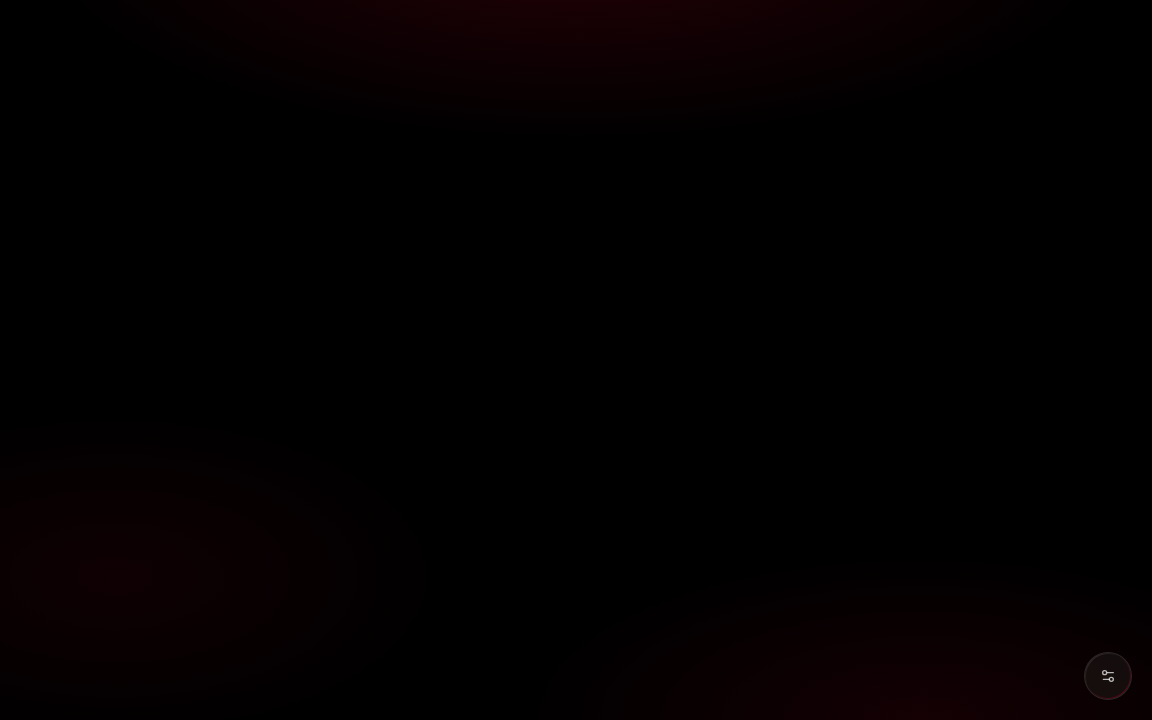
Test: AccessibilityPanel › se abre como dialogo modal y se cierra con Escape
Click the button named "abrir panel de accesibilidad": point(1108, 676) [1084, 652, 1132, 700]
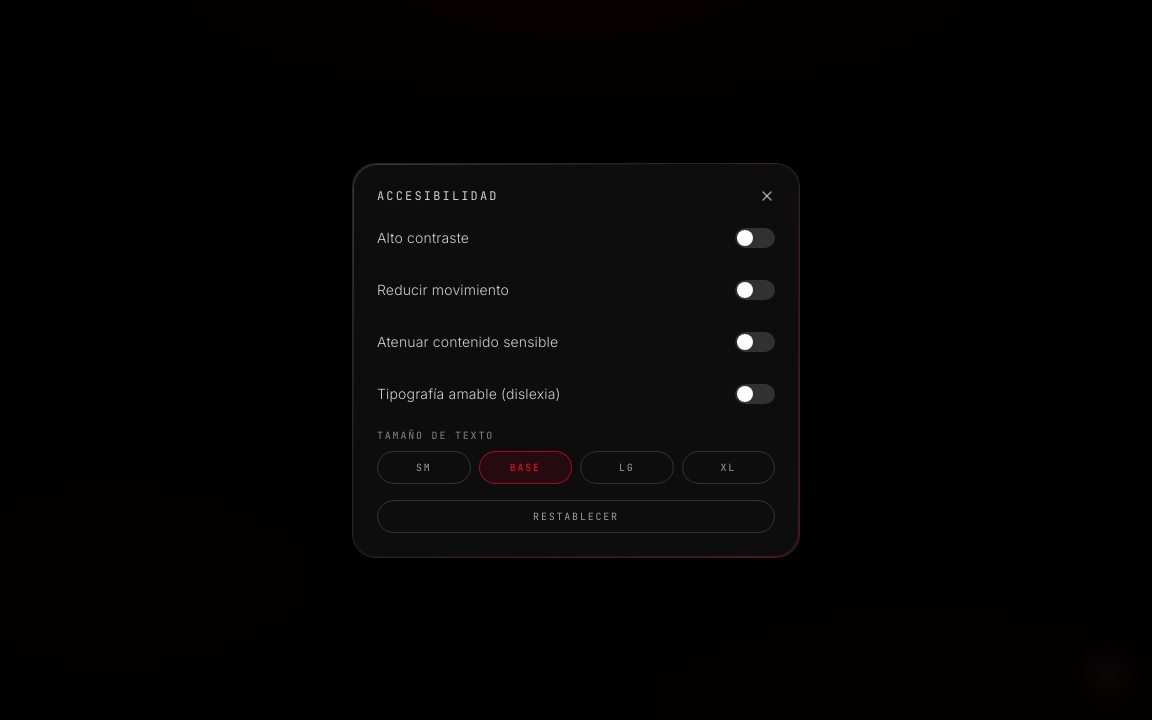
Expected: the button named "cerrar" is shown, [759, 188, 775, 204]
Press Escape
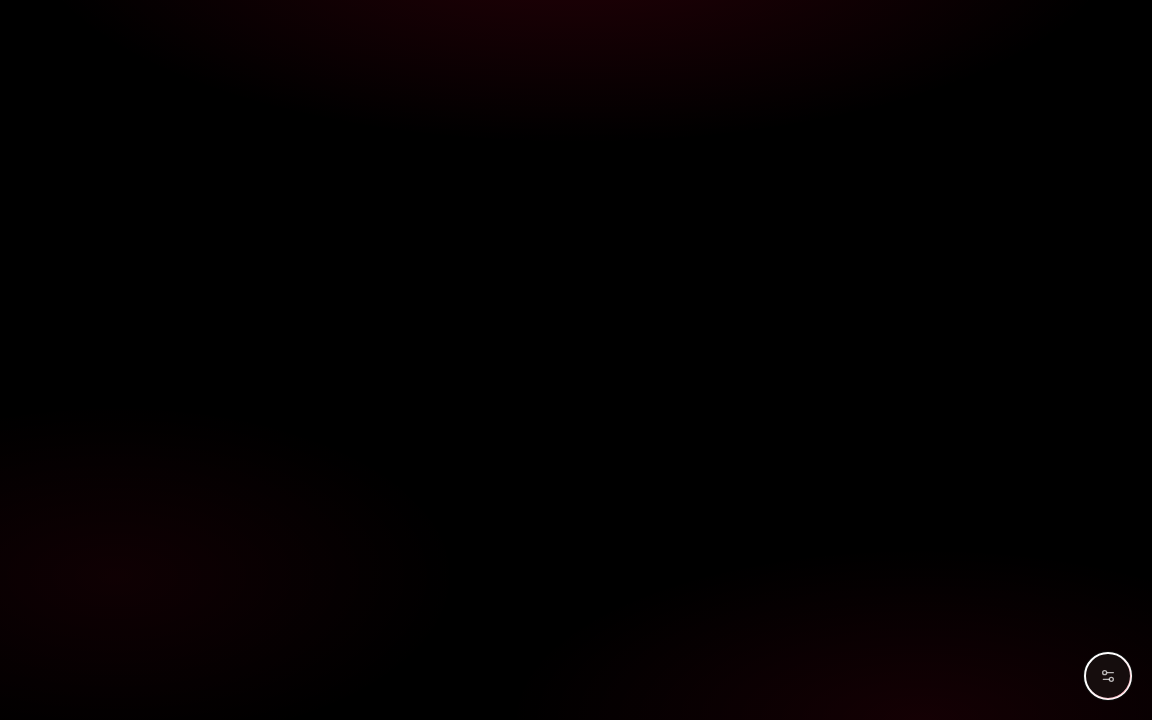
Expected: the dialog is gone
